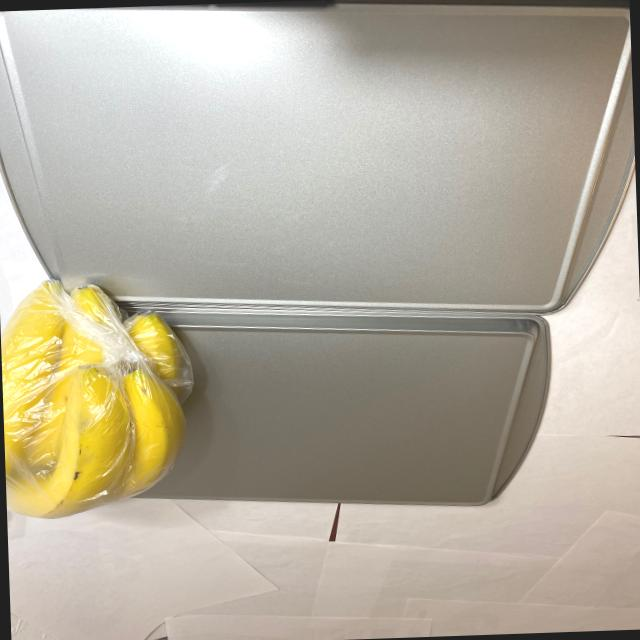banana: (0, 265, 200, 524)
